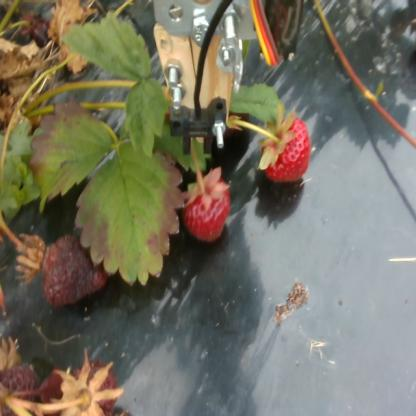ripe: (253, 113, 318, 184), (181, 170, 238, 250)
